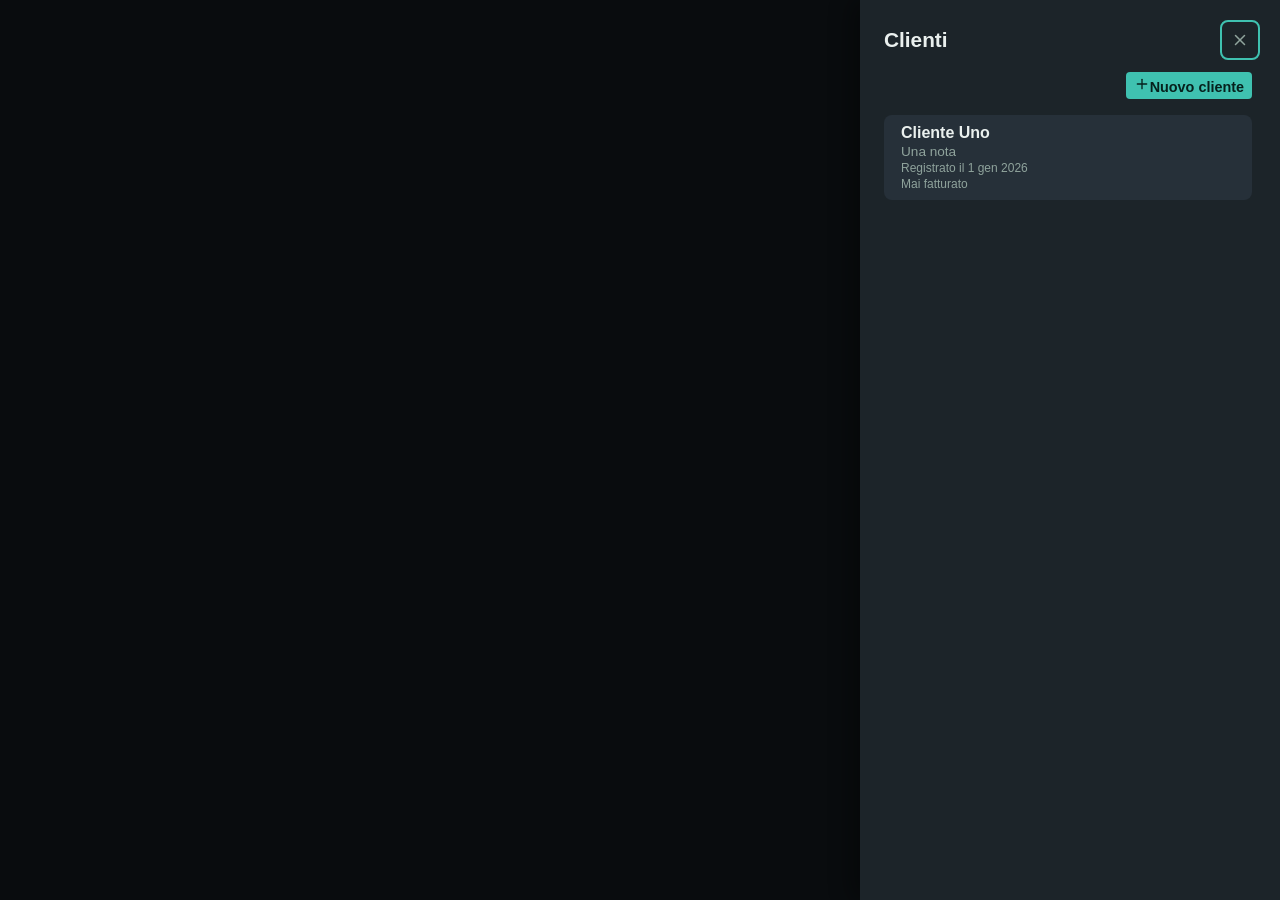
Test: CustomersDrawerComponent › Indietro torna alla lista senza salvare
Click the text "Cliente Uno": (945, 133) x1=901 y1=124 x2=990 y2=142
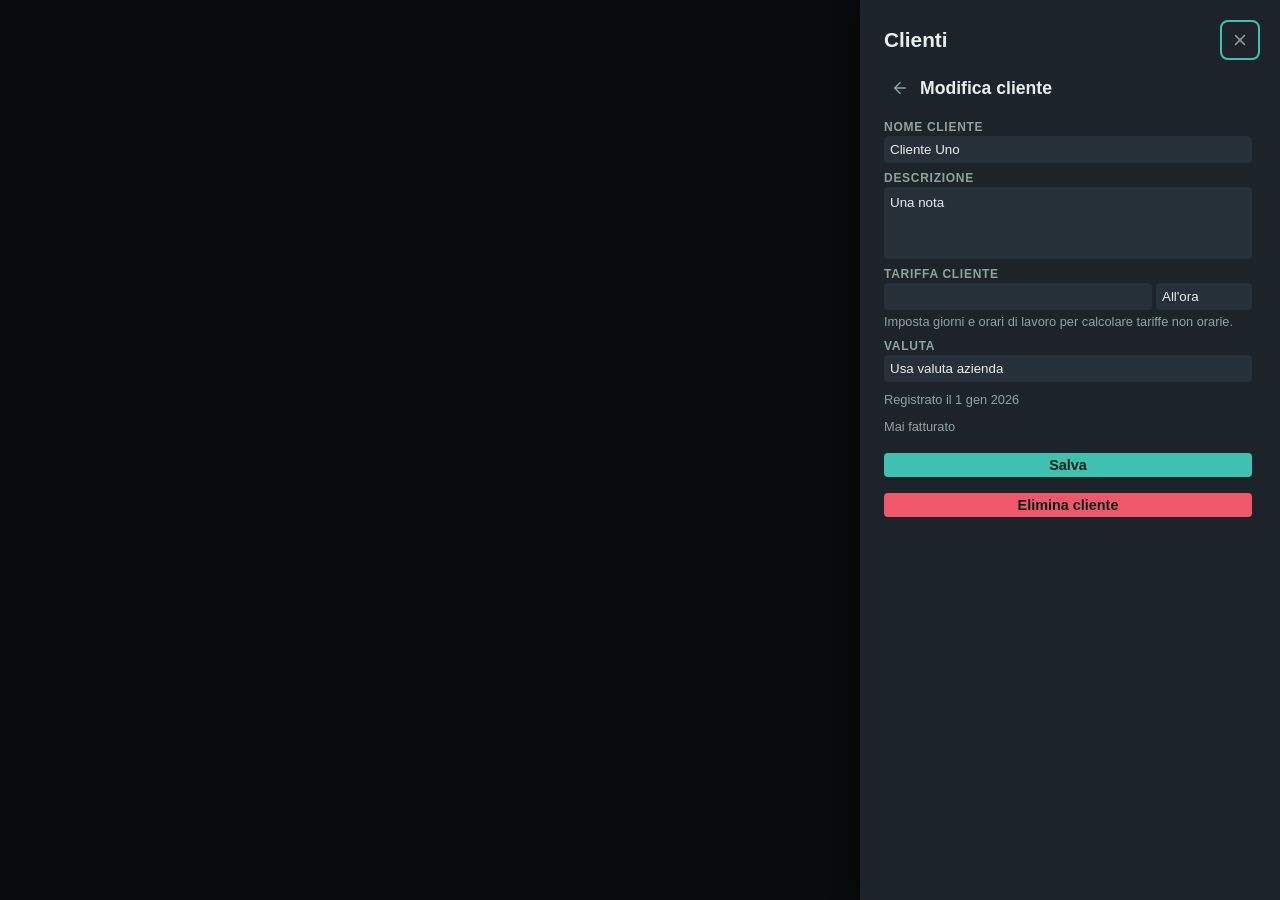
Result: the field labelled "Nome cliente" is shown at x1=884 y1=136 x2=1252 y2=163
Click the button named "Indietro": (900, 88) x1=884 y1=72 x2=916 y2=104
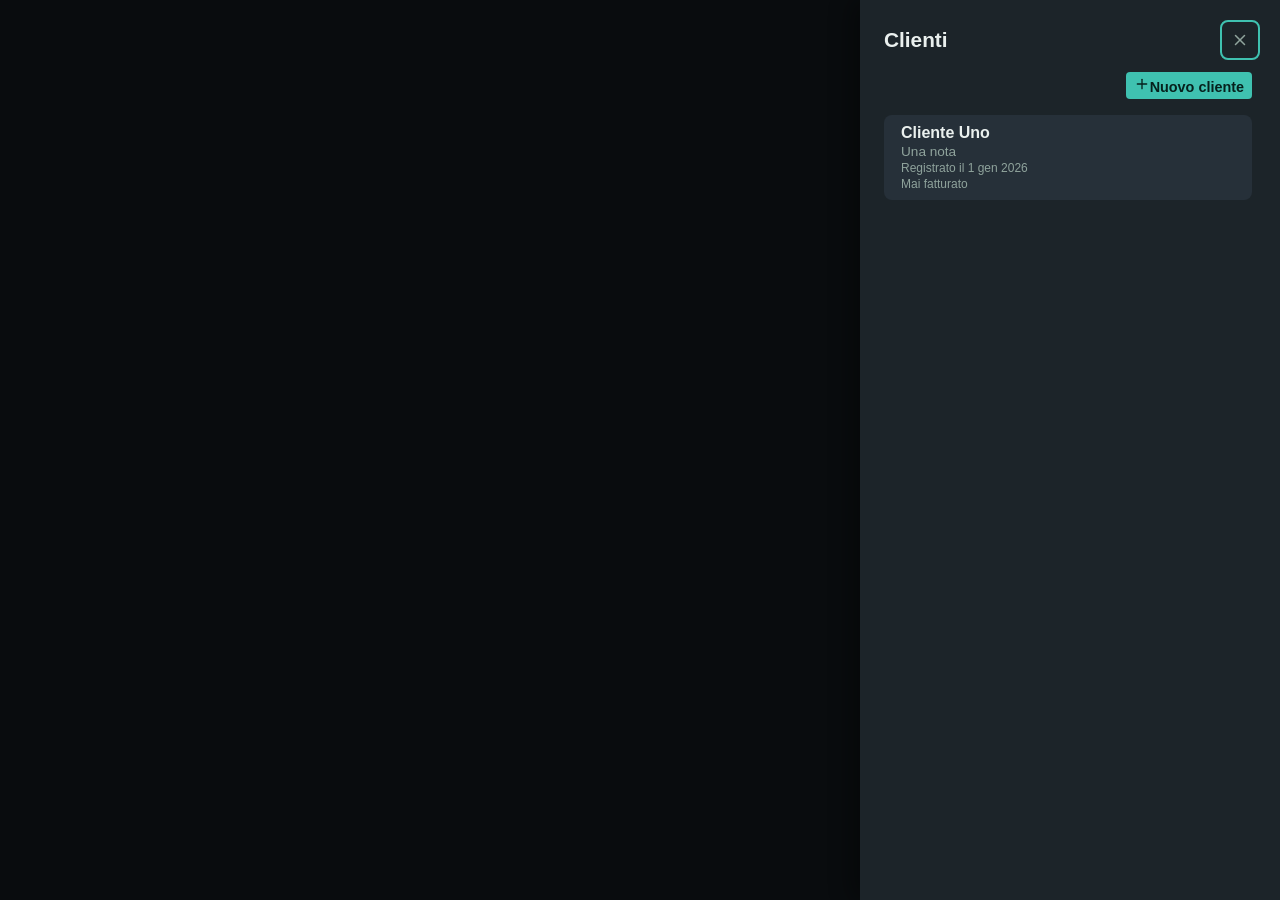
Result: the text "Cliente Uno" is shown at x1=901 y1=124 x2=990 y2=142
